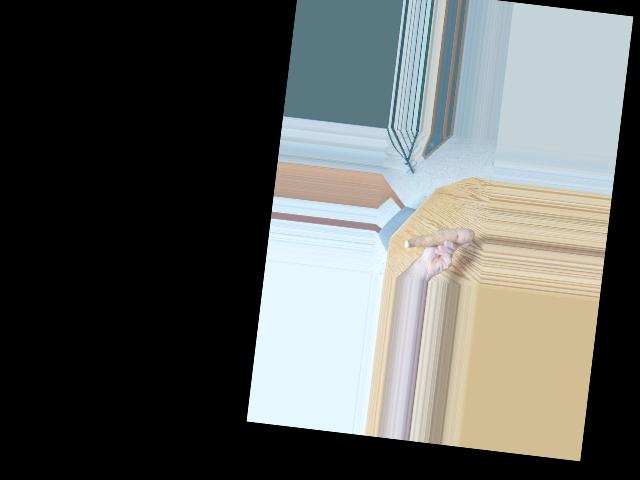sweet_potato: (402, 218, 474, 258)
